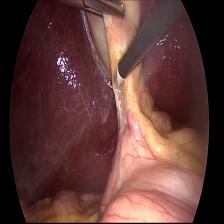Grasper: (58, 0, 126, 25)
Hook: (110, 60, 124, 92)
